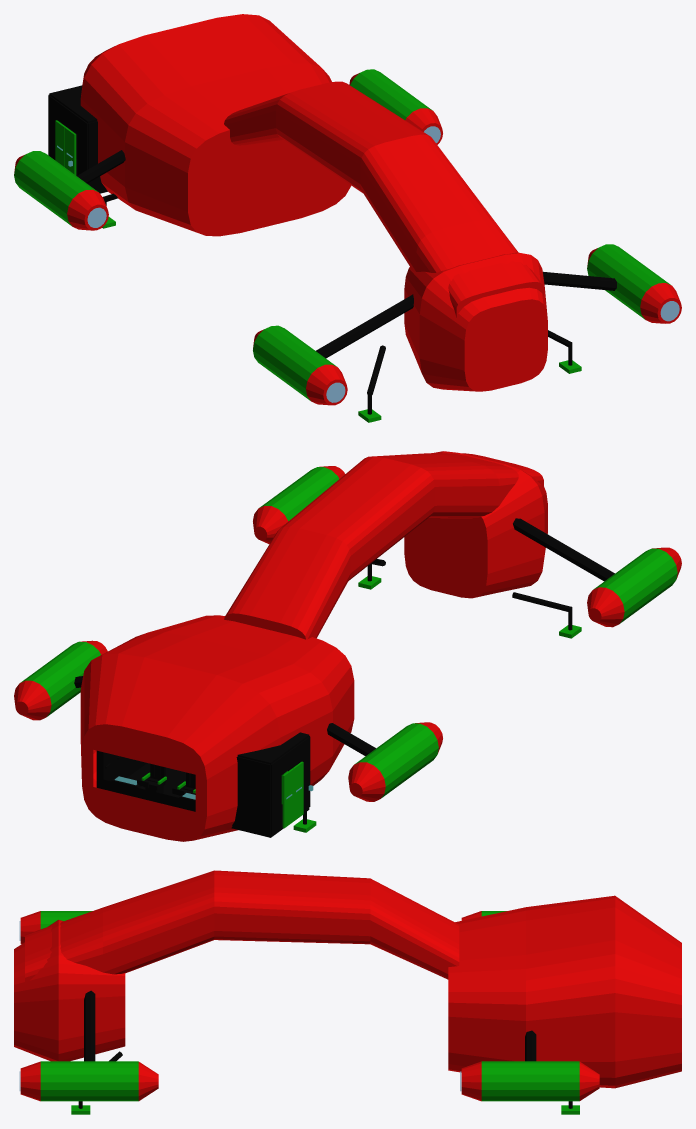
Rendered from cradle.glb.
The picture shows the model from 3 angles, top to bottom: view 1: azimuth 30°, elevation 25°; view 2: azimuth 150°, elevation 25°; view 3: azimuth 270°, elevation 25°; orthographic projection. The views are drawn at different scales.
Visible parts, largest first — view 1: horizon_cradle:forward_cabin, horizon_cradle:arched_service_spine, horizon_cradle:aft_mechanical_hull, horizon_cradle:field_drive_3, horizon_cradle:field_drive_4, horizon_cradle:field_drive_6, horizon_cradle:pod_supports, horizon_cradle:field_drive_5, horizon_cradle:room_eva, horizon_cradle:ceiling_eva; view 2: horizon_cradle:forward_cabin, horizon_cradle:arched_service_spine, horizon_cradle:aft_mechanical_hull, horizon_cradle:room_eva, horizon_cradle:field_drive_3, horizon_cradle:field_drive_4, horizon_cradle:field_drive_5, horizon_cradle:field_drive_6, horizon_cradle:room_bridge, horizon_cradle:pod_supports, horizon_cradle:ceiling_eva, horizon_cradle:door_eva-outer_-1; view 3: horizon_cradle:forward_cabin, horizon_cradle:arched_service_spine, horizon_cradle:aft_mechanical_hull, horizon_cradle:field_drive_5, horizon_cradle:field_drive_6, horizon_cradle:pod_supports, horizon_cradle:field_drive_4.
Boxes of the visible parts, x1=… form: horizon_cradle:forward_cabin: x1=80, y1=14, x2=351, y2=236; horizon_cradle:arched_service_spine: x1=224, y1=81, x2=543, y2=317; horizon_cradle:aft_mechanical_hull: x1=404, y1=252, x2=547, y2=391; horizon_cradle:field_drive_3: x1=14, y1=151, x2=108, y2=230; horizon_cradle:field_drive_4: x1=253, y1=325, x2=347, y2=405; horizon_cradle:field_drive_6: x1=587, y1=244, x2=681, y2=323; horizon_cradle:pod_supports: x1=77, y1=150, x2=616, y2=358; horizon_cradle:field_drive_5: x1=349, y1=69, x2=442, y2=144; horizon_cradle:room_eva: x1=48, y1=95, x2=107, y2=193; horizon_cradle:ceiling_eva: x1=49, y1=85, x2=97, y2=123; horizon_cradle:forward_cabin: x1=80, y1=615, x2=354, y2=841; horizon_cradle:arched_service_spine: x1=224, y1=453, x2=543, y2=639; horizon_cradle:aft_mechanical_hull: x1=404, y1=451, x2=547, y2=598; horizon_cradle:room_eva: x1=231, y1=736, x2=310, y2=837; horizon_cradle:field_drive_3: x1=348, y1=722, x2=442, y2=801; horizon_cradle:field_drive_4: x1=587, y1=547, x2=681, y2=627; horizon_cradle:field_drive_5: x1=14, y1=640, x2=107, y2=720; horizon_cradle:field_drive_6: x1=253, y1=466, x2=344, y2=544; horizon_cradle:room_bridge: x1=96, y1=750, x2=195, y2=811; horizon_cradle:pod_supports: x1=74, y1=518, x2=614, y2=755; horizon_cradle:ceiling_eva: x1=237, y1=732, x2=309, y2=764; horizon_cradle:door_eva-outer_-1: x1=282, y1=768, x2=293, y2=828; horizon_cradle:forward_cabin: x1=448, y1=895, x2=681, y2=1088; horizon_cradle:arched_service_spine: x1=25, y1=870, x2=459, y2=986; horizon_cradle:aft_mechanical_hull: x1=14, y1=919, x2=125, y2=1061; horizon_cradle:field_drive_5: x1=460, y1=1061, x2=599, y2=1101; horizon_cradle:field_drive_6: x1=19, y1=1061, x2=158, y2=1101; horizon_cradle:pod_supports: x1=84, y1=990, x2=536, y2=1061; horizon_cradle:field_drive_4: x1=19, y1=911, x2=92, y2=943.
Size of the model in its own units: 17.8 by 9.18 by 30.
